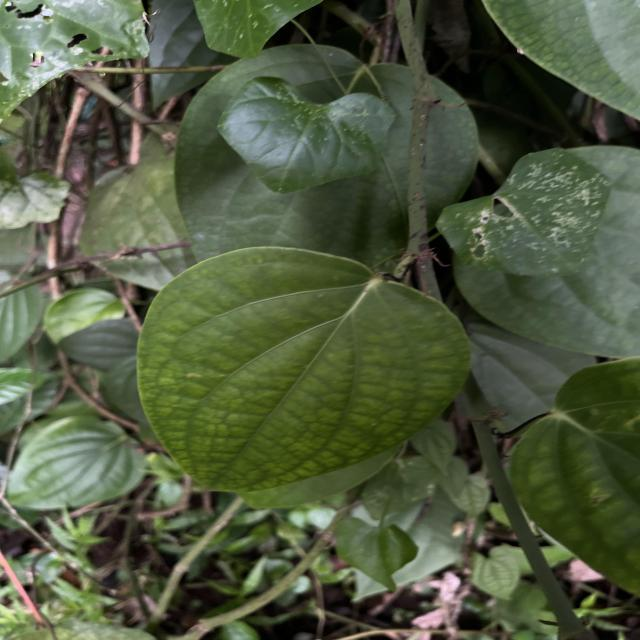Piper nigrum: (133, 243, 474, 493)
